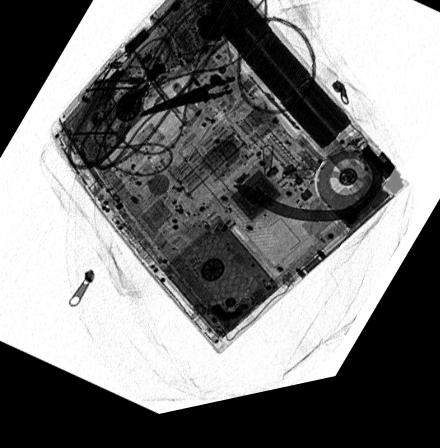Scissors: (136, 83, 243, 128)
